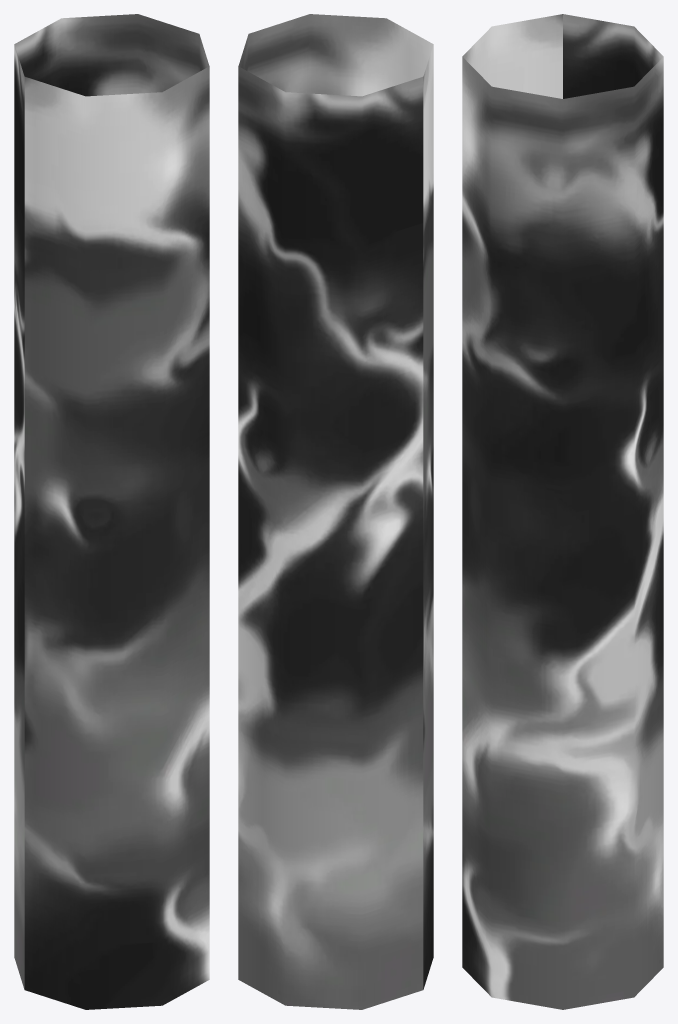
3 views of the same model, side by side, from view 1: azimuth 30°, elevation 25°; view 2: azimuth 150°, elevation 25°; view 3: azimuth 270°, elevation 25° (orthographic).
Parts seen in each view (by area): view 1: SM_Anima_Pipe_4m_Internal_LOD0; view 2: SM_Anima_Pipe_4m_Internal_LOD0; view 3: SM_Anima_Pipe_4m_Internal_LOD0.
Part boxes in pixels (x1=…): SM_Anima_Pipe_4m_Internal_LOD0: x1=14, y1=14, x2=209, y2=1009; SM_Anima_Pipe_4m_Internal_LOD0: x1=238, y1=14, x2=433, y2=1009; SM_Anima_Pipe_4m_Internal_LOD0: x1=462, y1=14, x2=663, y2=1009.
Bounding box in the file's own units: 0.5 × 2.5 × 0.5.
1 material, 1 textured.
